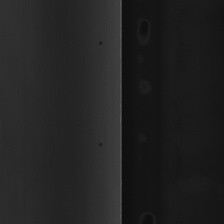oil_spot: (97, 140, 109, 152), (96, 36, 103, 51)
